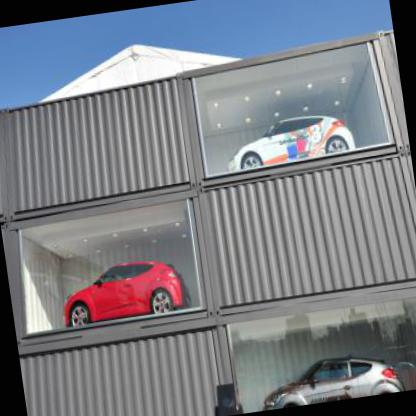car: (52, 247, 192, 334), (258, 345, 408, 409), (218, 102, 358, 166)
